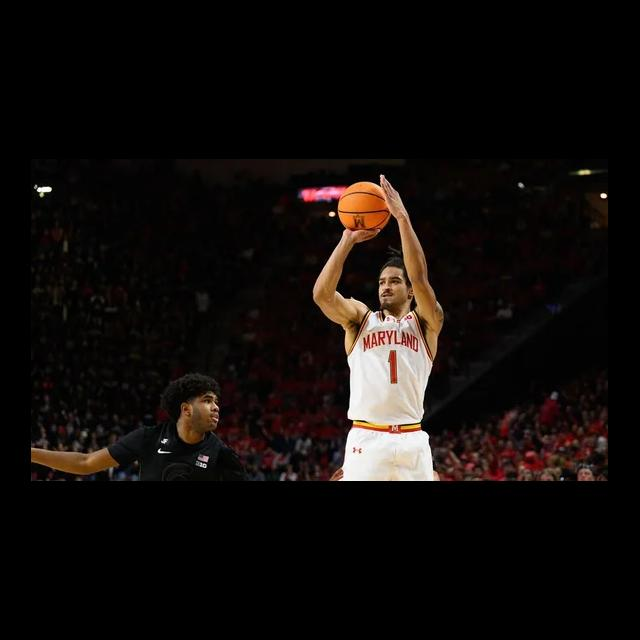basketball: (337, 182, 392, 231)
